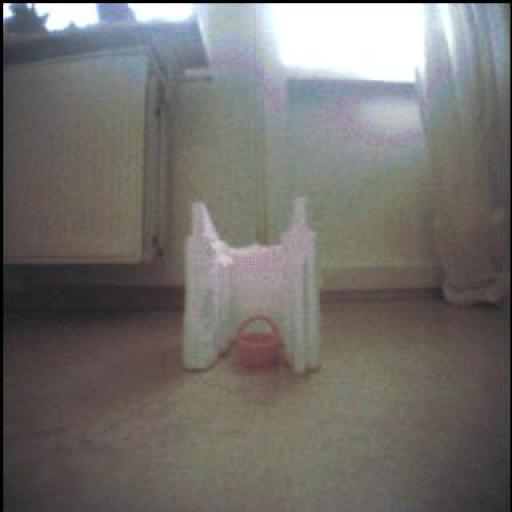Basket: (238, 316, 283, 369)
